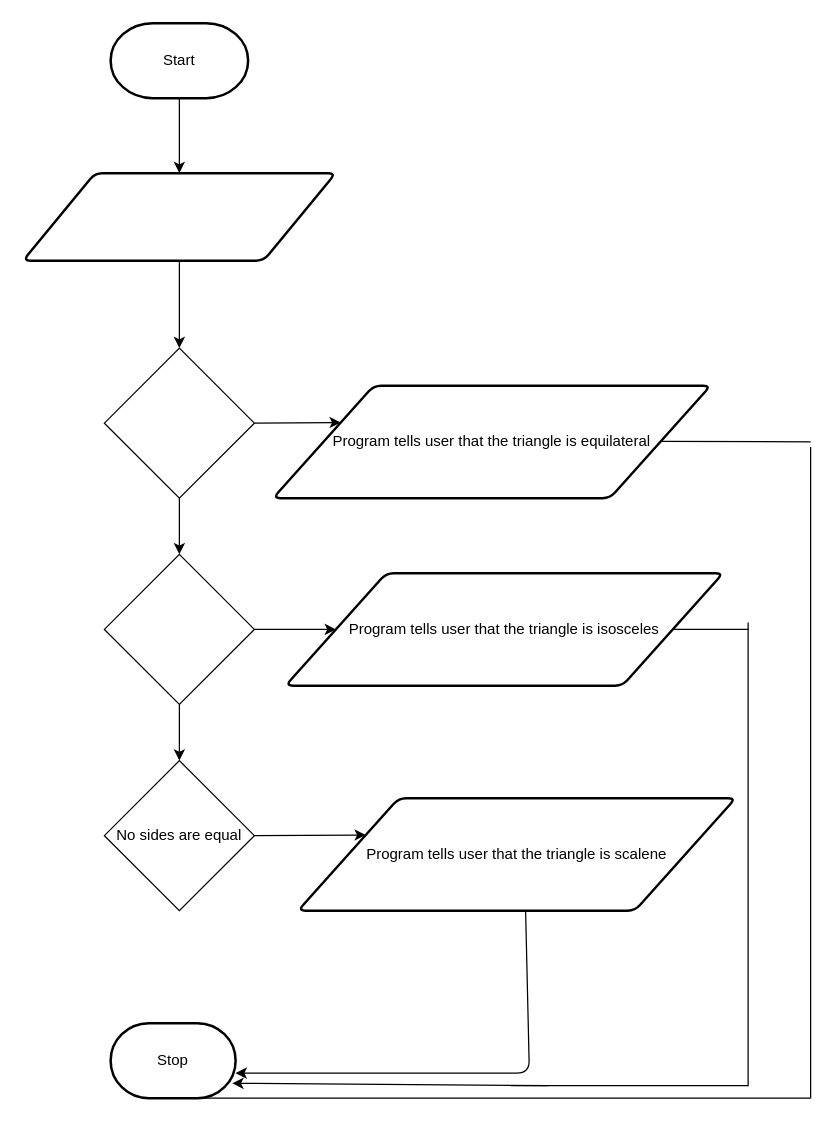
Image size: 834x1121. Some labels were removed from this diagram. Each missing label, with the box of its shape:
All sides are equal: (103, 347, 254, 498)
Only two sides are equal: (103, 553, 254, 704)
User enters lengths a, b and c: (21, 171, 336, 261)
